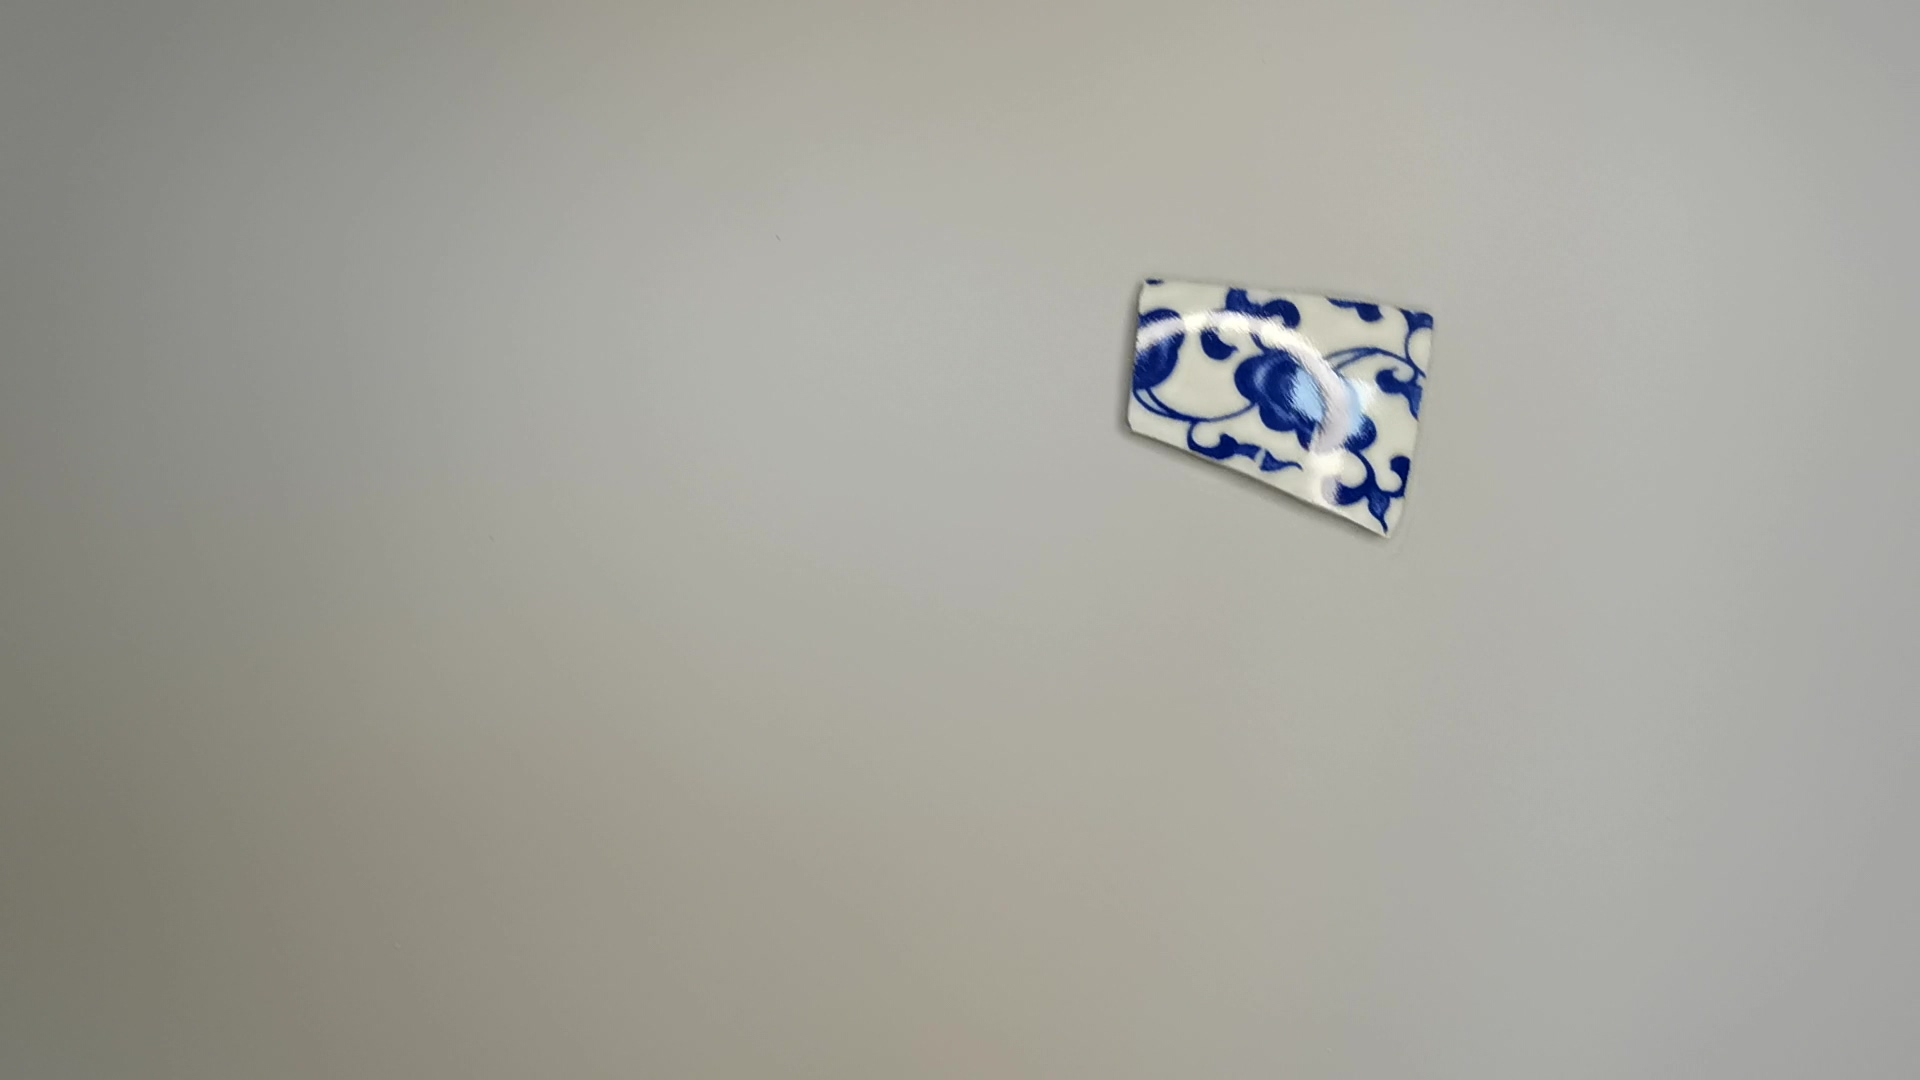ceramic: (1125, 262, 1452, 554)
